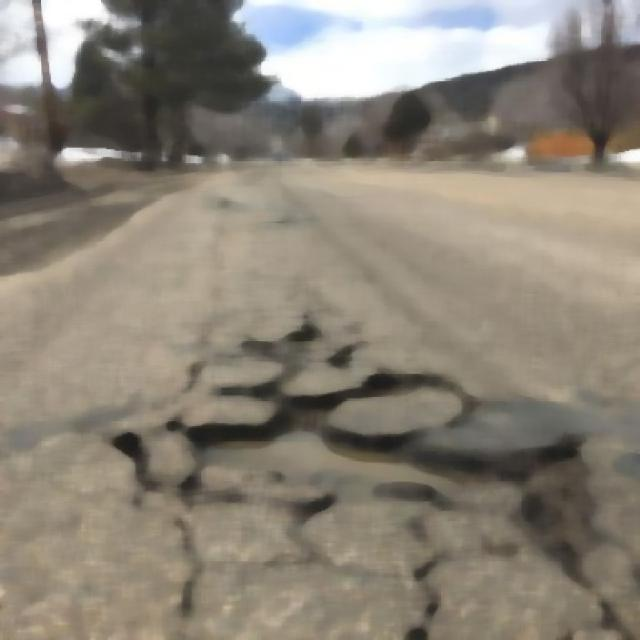Pothole: (164, 389, 542, 502)
